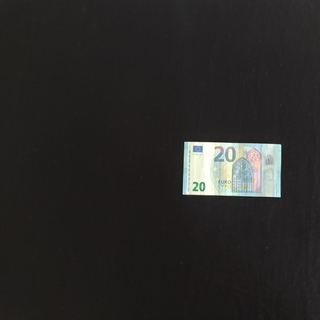20EUROFront: (182, 141, 281, 198)
